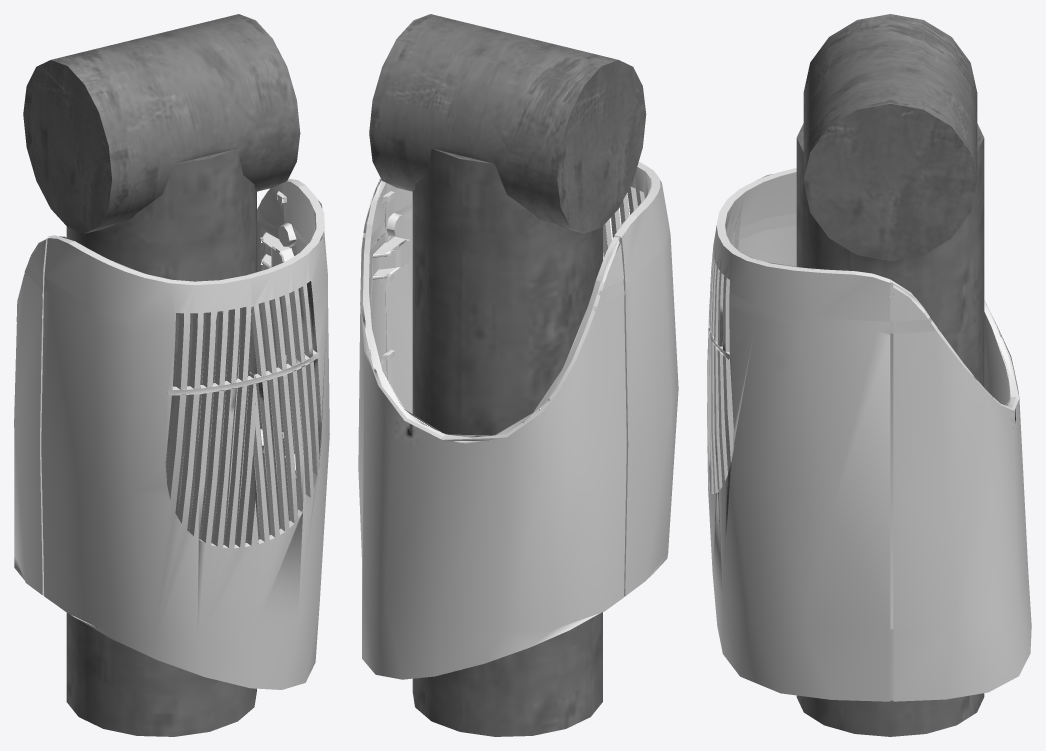
File: icub_r_thigh.dae
3 renders of one model, left to right at view 1: azimuth 30°, elevation 25°; view 2: azimuth 150°, elevation 25°; view 3: azimuth 270°, elevation 25°, orthographic. The views are drawn at different scales.
Visible parts, largest first — view 1: l_upperleg_mesh_001; view 2: l_upperleg_mesh_001; view 3: l_upperleg_mesh_001.
Part boxes in pixels (box(x1,y1,x2,y2)): l_upperleg_mesh_001: box(14, 14, 329, 736); l_upperleg_mesh_001: box(358, 14, 678, 736); l_upperleg_mesh_001: box(707, 14, 1031, 736).
Bounding box in the file's own units: 0.1029 × 0.1178 × 0.2555.
Materials: 1 (1 with a texture image).
